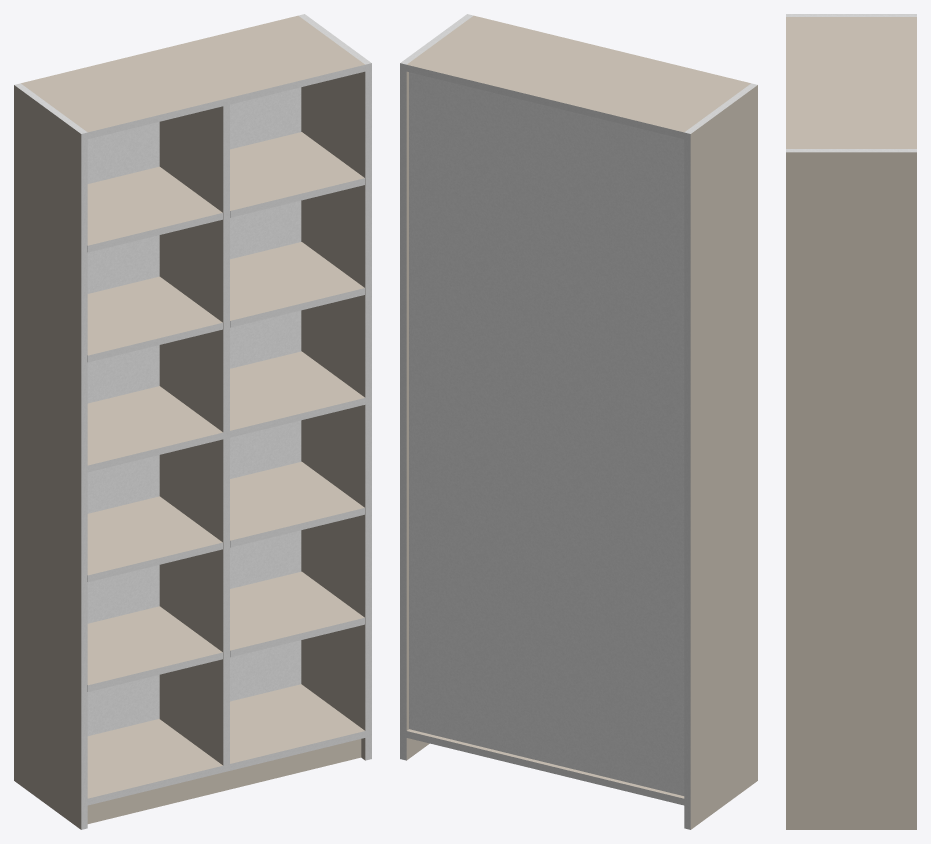
Rendered from CAL-BKC-std.glb.
3 views of the same model, side by side, from view 1: azimuth 30°, elevation 25°; view 2: azimuth 150°, elevation 25°; view 3: azimuth 270°, elevation 25° (orthographic). The views are drawn at different scales.
Visible parts, largest first — view 1: side-l:pbr, back:sheet:eyJtIjoibWRmIiwic2lkZSI6ImZhY2UiLCJzZWVkIjo0LCJ0a, side-r:pbr, partition:pbr, top:pbr, bottom:pbr, shelf-fixedl:pbr, shelf-3:pbr, shelf-5:pbr, shelf-7:pbr, shelf-1:pbr, shelf-fixedr:pbr (+20 smaller); view 2: back:sheet:eyJtIjoibWRmIiwic2lkZSI6ImZhY2UiLCJzZWVkIjo0LCJ0a, side-l:pbr, top:pbr, side-l:sheet:eyJtIjoibWRmIiwic2lkZSI6ImVkZ2UtbG9uZyIsInNlZWQ, side-r:sheet:eyJtIjoibWRmIiwic2lkZSI6ImVkZ2UtbG9uZyIsInNlZWQ, side-r:pbr, bottom:sheet:eyJtIjoibWRmIiwic2lkZSI6ImVkZ2UtbG9uZyIsInNlZWQ, top:sheet:eyJtIjoibWRmIiwic2lkZSI6ImVkZ2UtbG9uZyIsInNlZWQiOj, bottom:pbr; view 3: side-r:pbr, top:pbr, side-r:sheet:eyJtIjoibWRmIiwic2lkZSI6ImVkZ2UtZW5kIiwic2VlZCI, side-l:sheet:eyJtIjoibWRmIiwic2lkZSI6ImVkZ2UtZW5kIiwic2VlZCI.
Boxes of the visible parts, <box> form: side-l:pbr: <box>14,85,81,829</box>; back:sheet:eyJtIjoibWRmIiwic2lkZSI6ImZhY2UiLCJzZWVkIjo0LCJ0a: <box>87,87,301,735</box>; side-r:pbr: <box>301,71,365,760</box>; partition:pbr: <box>159,106,223,765</box>; top:pbr: <box>21,15,364,132</box>; bottom:pbr: <box>87,684,364,798</box>; shelf-fixedl:pbr: <box>87,386,222,465</box>; shelf-3:pbr: <box>87,496,222,575</box>; shelf-5:pbr: <box>87,276,222,355</box>; shelf-7:pbr: <box>87,166,222,245</box>; shelf-1:pbr: <box>87,606,222,685</box>; shelf-fixedr:pbr: <box>230,351,364,430</box>; back:sheet:eyJtIjoibWRmIiwic2lkZSI6ImZhY2UiLCJzZWVkIjo0LCJ0a: <box>409,72,684,795</box>; side-l:pbr: <box>690,85,757,829</box>; top:pbr: <box>407,15,750,132</box>; side-l:sheet:eyJtIjoibWRmIiwic2lkZSI6ImVkZ2UtbG9uZyIsInNlZWQ: <box>684,132,690,829</box>; side-r:sheet:eyJtIjoibWRmIiwic2lkZSI6ImVkZ2UtbG9uZyIsInNlZWQ: <box>400,63,406,760</box>; side-r:pbr: <box>406,71,429,760</box>; bottom:sheet:eyJtIjoibWRmIiwic2lkZSI6ImVkZ2UtbG9uZyIsInNlZWQ: <box>406,731,684,805</box>; top:sheet:eyJtIjoibWRmIiwic2lkZSI6ImVkZ2UtbG9uZyIsInNlZWQiOj: <box>406,65,684,138</box>; bottom:pbr: <box>407,729,684,798</box>; side-r:pbr: <box>786,152,916,829</box>; top:pbr: <box>786,17,916,148</box>; side-r:sheet:eyJtIjoibWRmIiwic2lkZSI6ImVkZ2UtZW5kIiwic2VlZCI: <box>786,149,916,152</box>; side-l:sheet:eyJtIjoibWRmIiwic2lkZSI6ImVkZ2UtZW5kIiwic2VlZCI: <box>786,14,916,16</box>.
Size of the model in its own units: 0.8 by 1.83 by 0.32.
51 materials, 35 textured.
